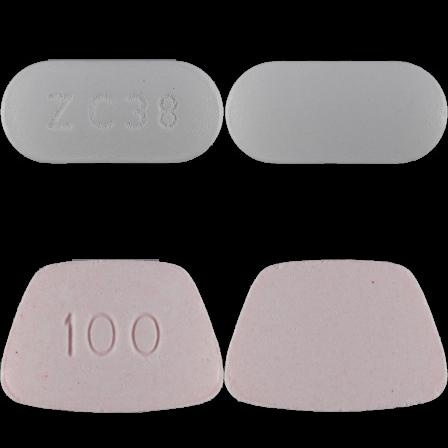69189-0097: (0, 0, 224, 224)
